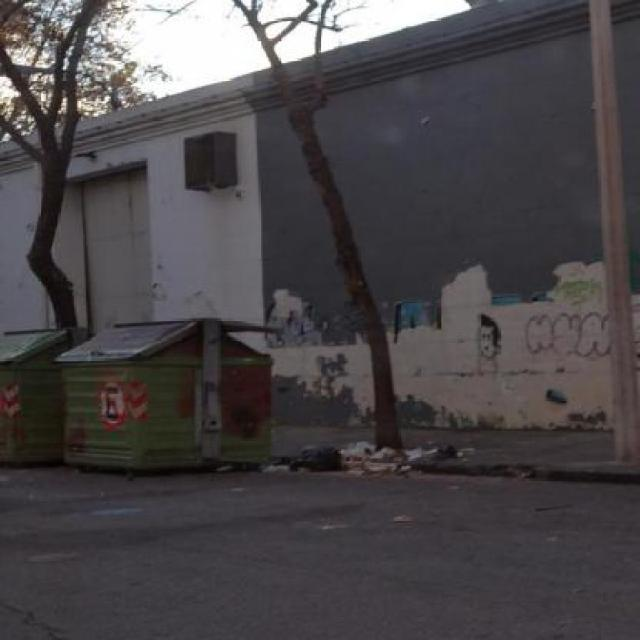garbage: (266, 422, 459, 496)
